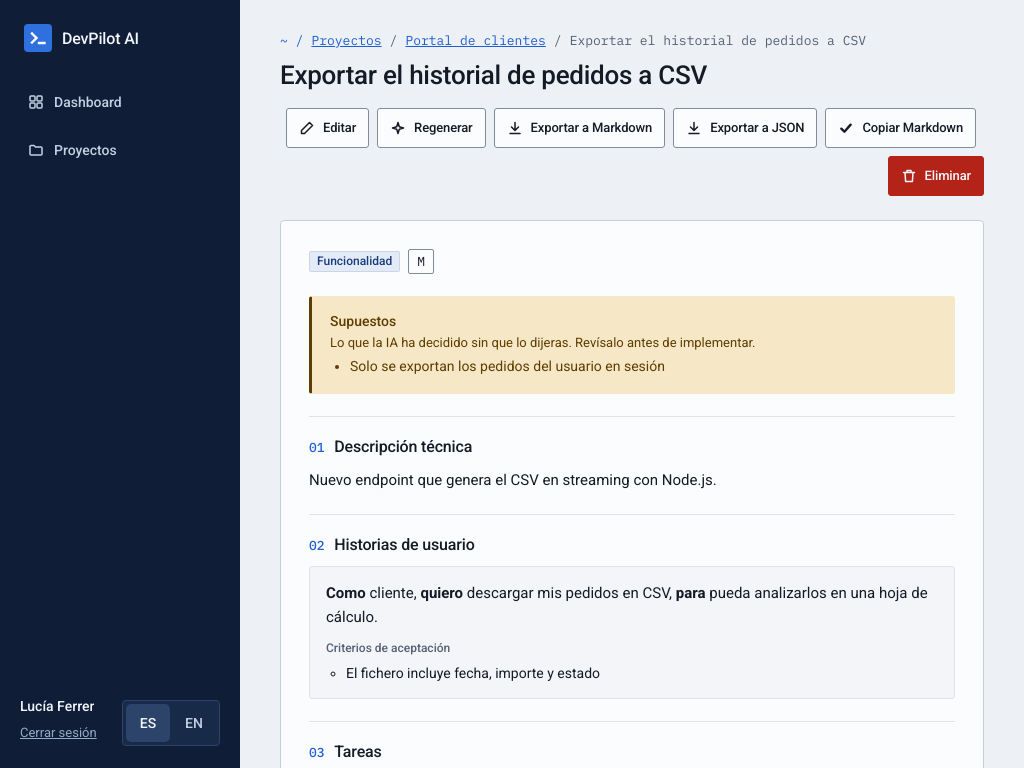
Test: translating a generation › translates the specification when the interface switches language
Expected: the heading "Exportar el historial de pedidos a CSV" is shown, [280,59,707,92]
Click the button "EN" at (194, 723), box [172,704,216,742]
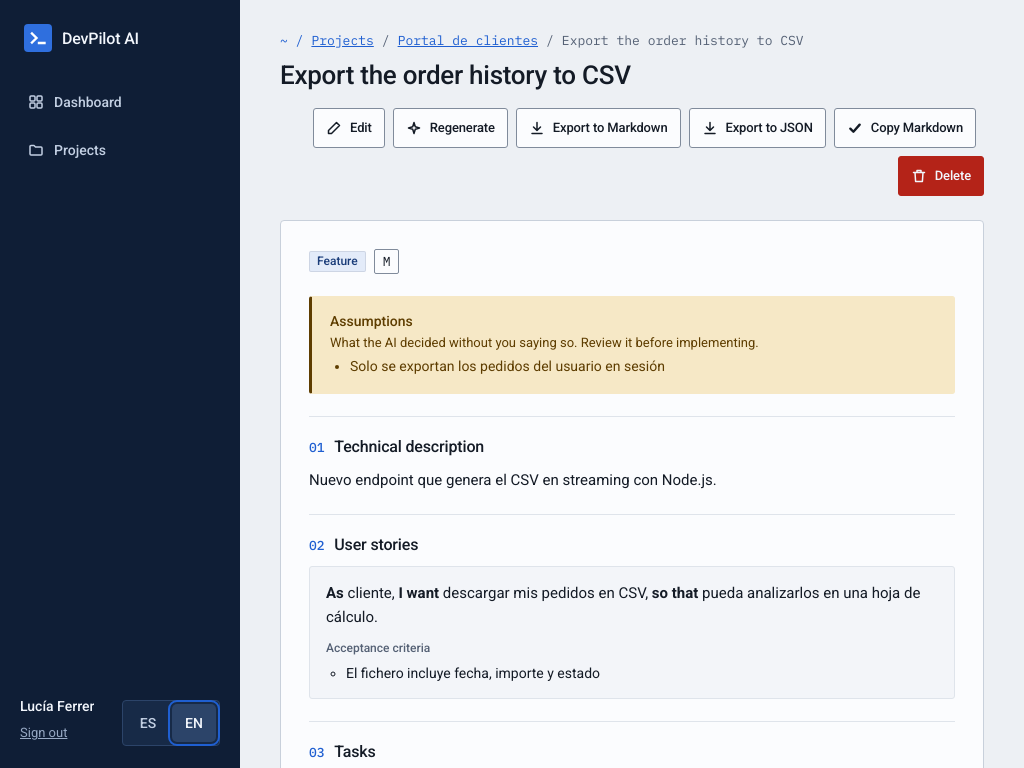
Expected: the heading "Export the order history to CSV" is shown, [280,59,631,92]
Click the button "ES" at (148, 723), box [126,704,170,742]
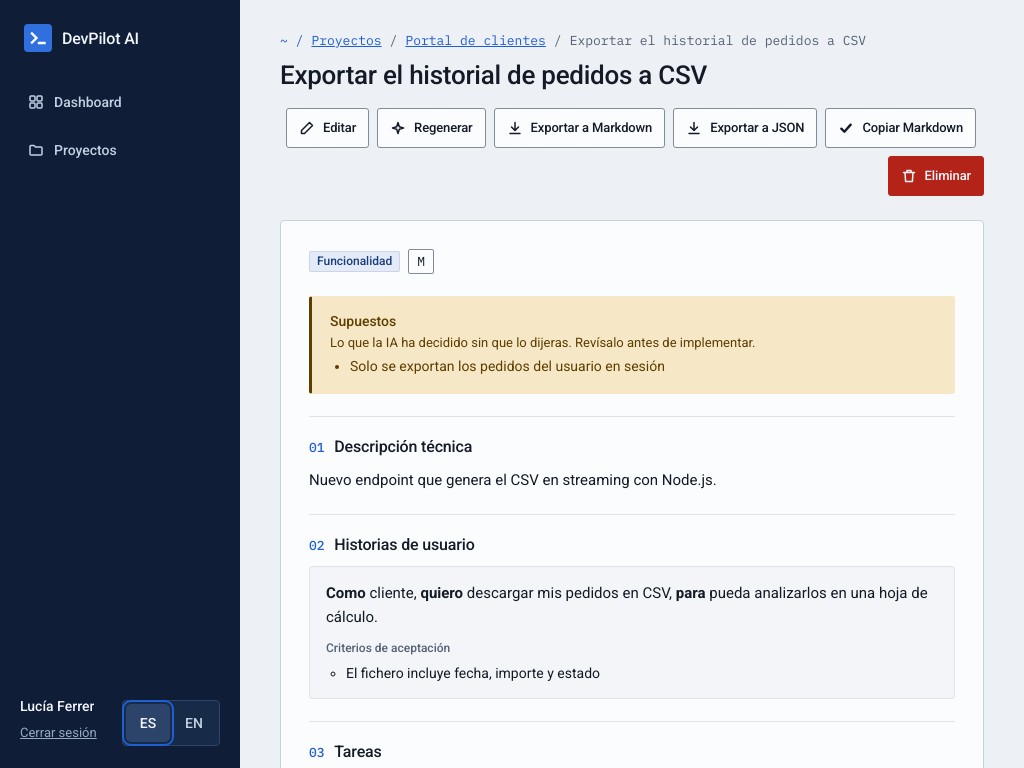
Expected: the heading "Exportar el historial de pedidos a CSV" is shown, [280,59,707,92]
